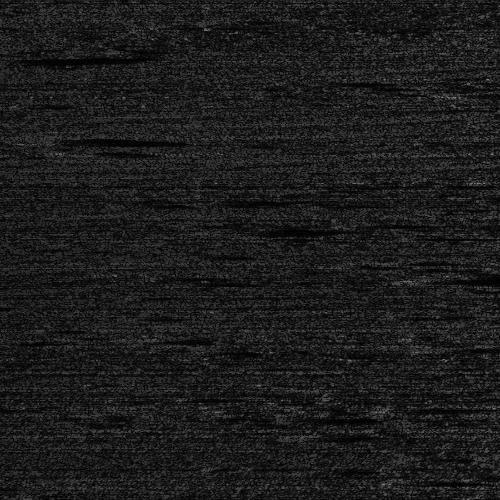object: (445, 80, 500, 97), (410, 271, 483, 282), (220, 226, 293, 235), (24, 134, 87, 143), (257, 432, 320, 441), (404, 345, 467, 350), (452, 179, 500, 184), (268, 415, 309, 420)
shadow: (55, 134, 203, 143), (0, 54, 96, 63), (257, 226, 350, 235), (446, 271, 500, 282), (289, 432, 347, 441), (289, 415, 384, 420), (436, 345, 500, 350), (479, 179, 500, 184)
